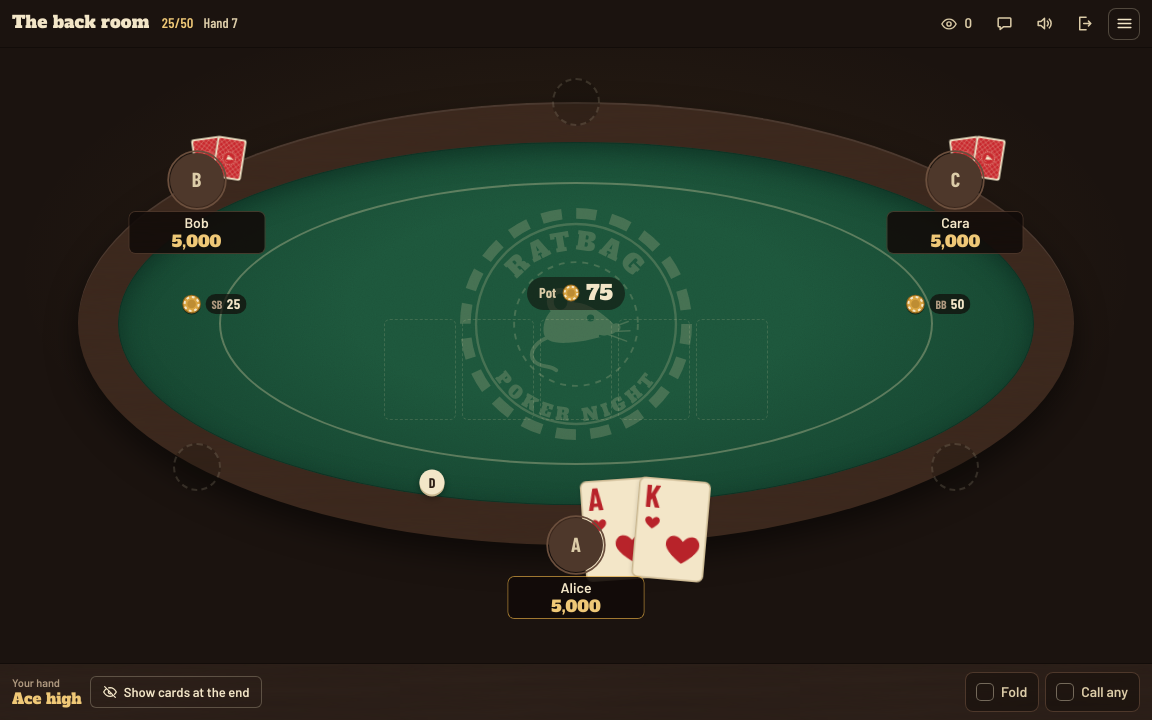
Scenario: clicks and confirms › moves through the seat menu with the arrow keys
The width and height of the screenshot is (1152, 720).
Click the button named "Seat 3, Bob".
click(197, 180)  # box [167,150,227,210]
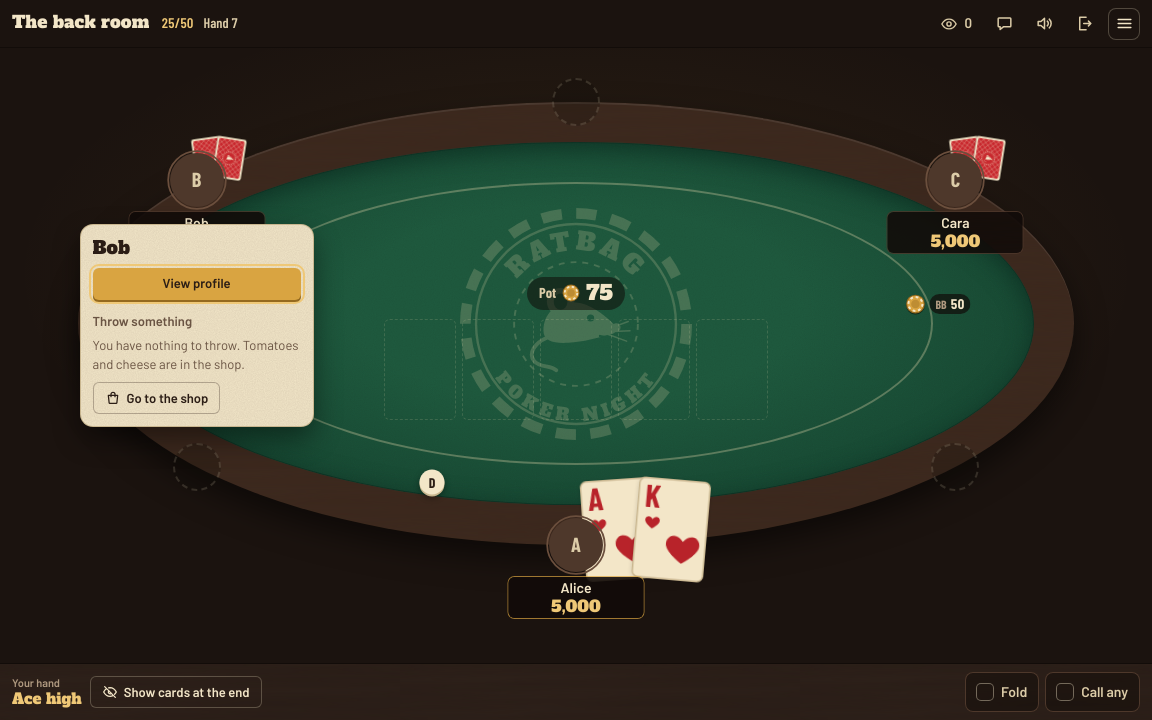
Press Arrowdown
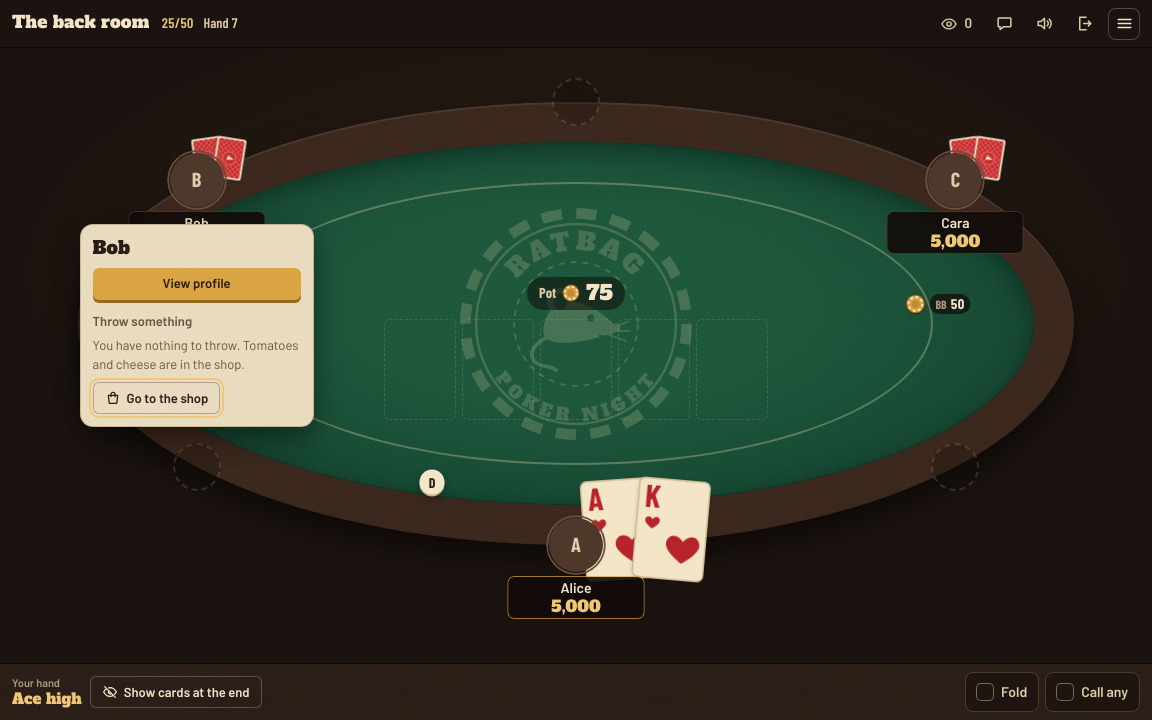
Press End
Press Home
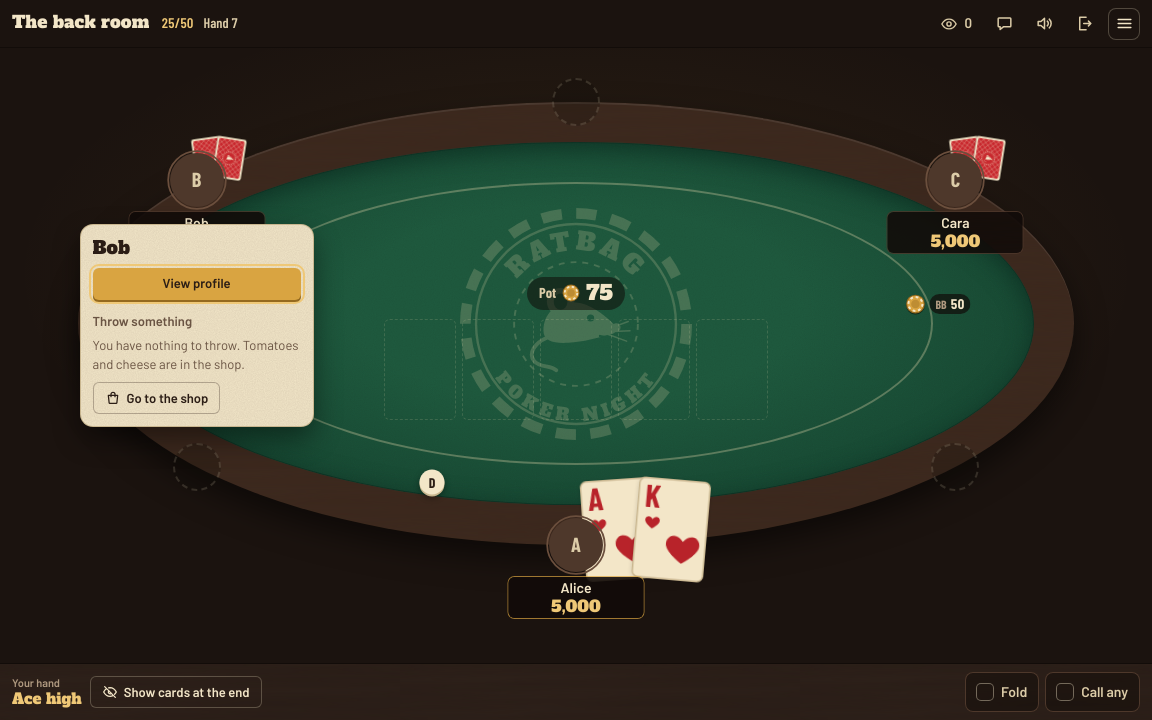
Press Escape
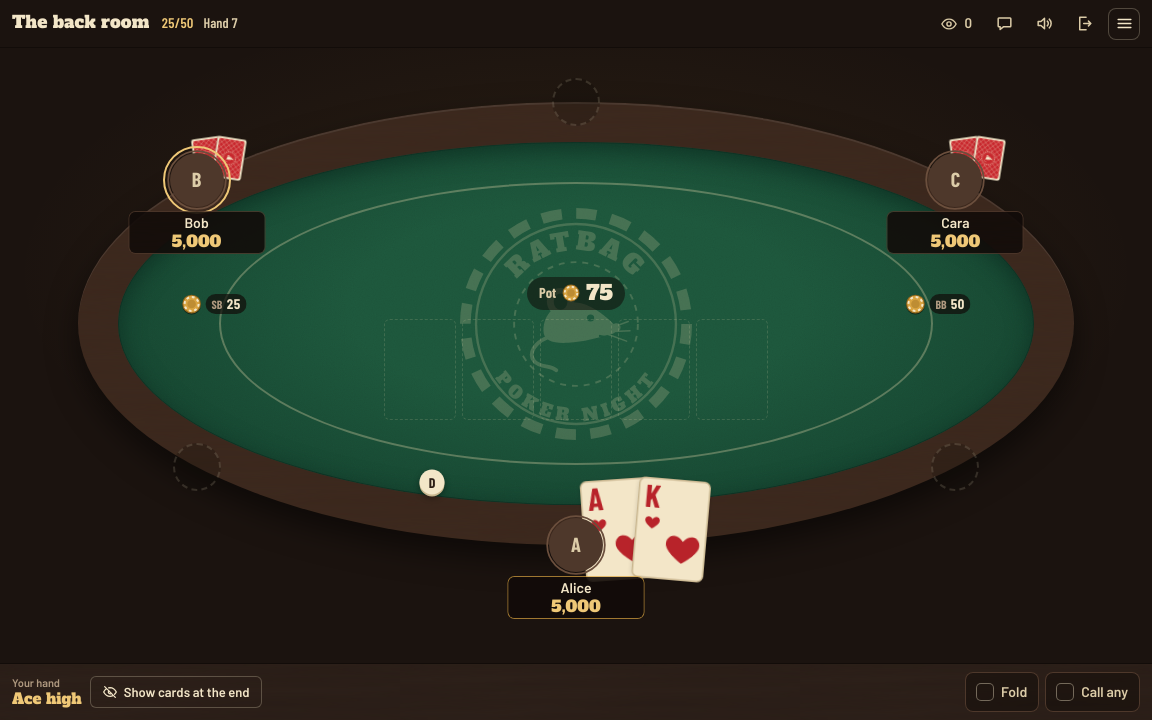
Expected: the menu is gone
